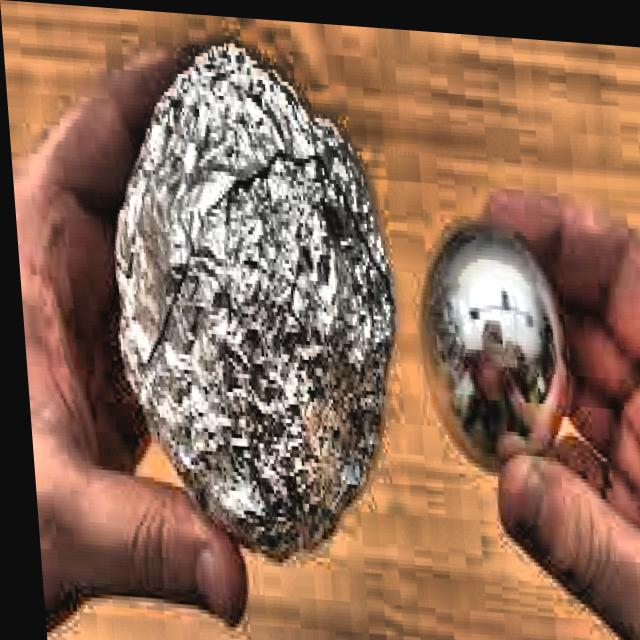Foil: (56, 17, 412, 588)
